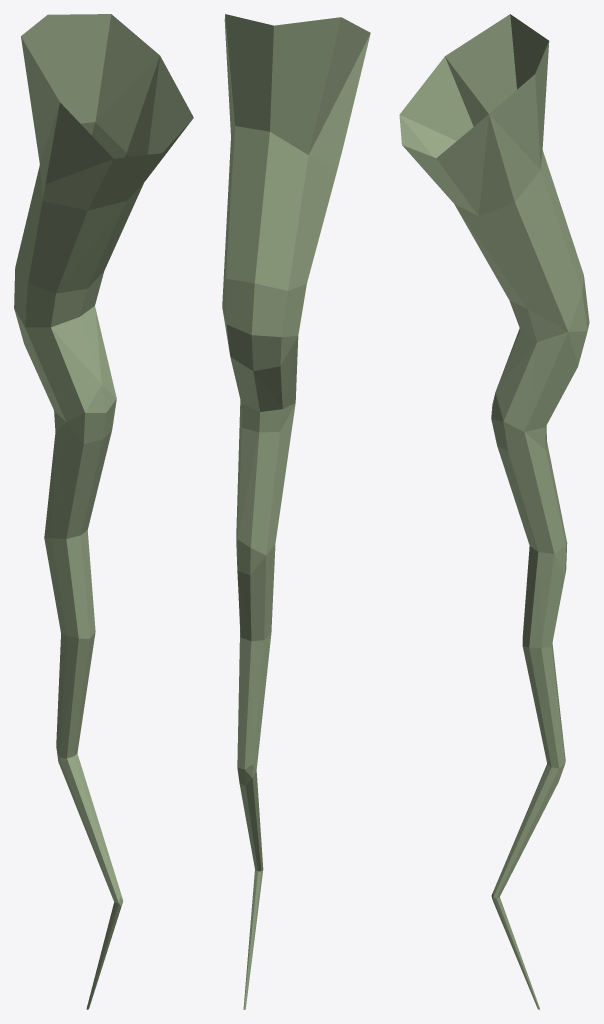
Rendered from EA_Swamp_Liana_04a.glb.
3 views of the same model, side by side, from view 1: azimuth 30°, elevation 25°; view 2: azimuth 150°, elevation 25°; view 3: azimuth 270°, elevation 25° (orthographic). The views are drawn at different scales.
Visible parts, largest first — view 1: EA_Swamp_Liana_04a; view 2: EA_Swamp_Liana_04a; view 3: EA_Swamp_Liana_04a.
Boxes of the visible parts, left/top/right/bottom form: EA_Swamp_Liana_04a: left=14, top=14, right=193, bottom=1009; EA_Swamp_Liana_04a: left=222, top=14, right=370, bottom=1009; EA_Swamp_Liana_04a: left=399, top=14, right=589, bottom=1009.
Bounding box in the file's own units: 0.2988 × 2.14 × 0.3843.
Materials: 1 (1 with a texture image).
